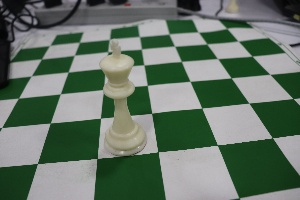white_king: (89, 30, 151, 169)
